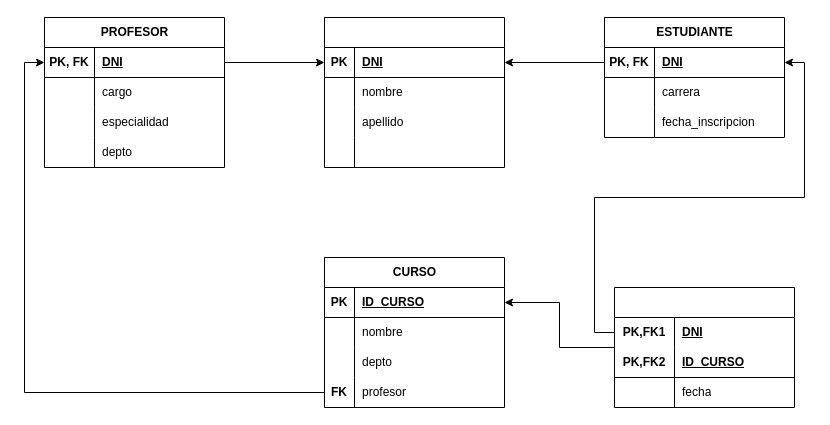
Some shapes in this 830 by 425 pixel diagram are drawn without their labels. Each missing label, with the box of its shape:
PERSONA: (324, 16, 504, 168)
REALIZA: (614, 286, 794, 408)
